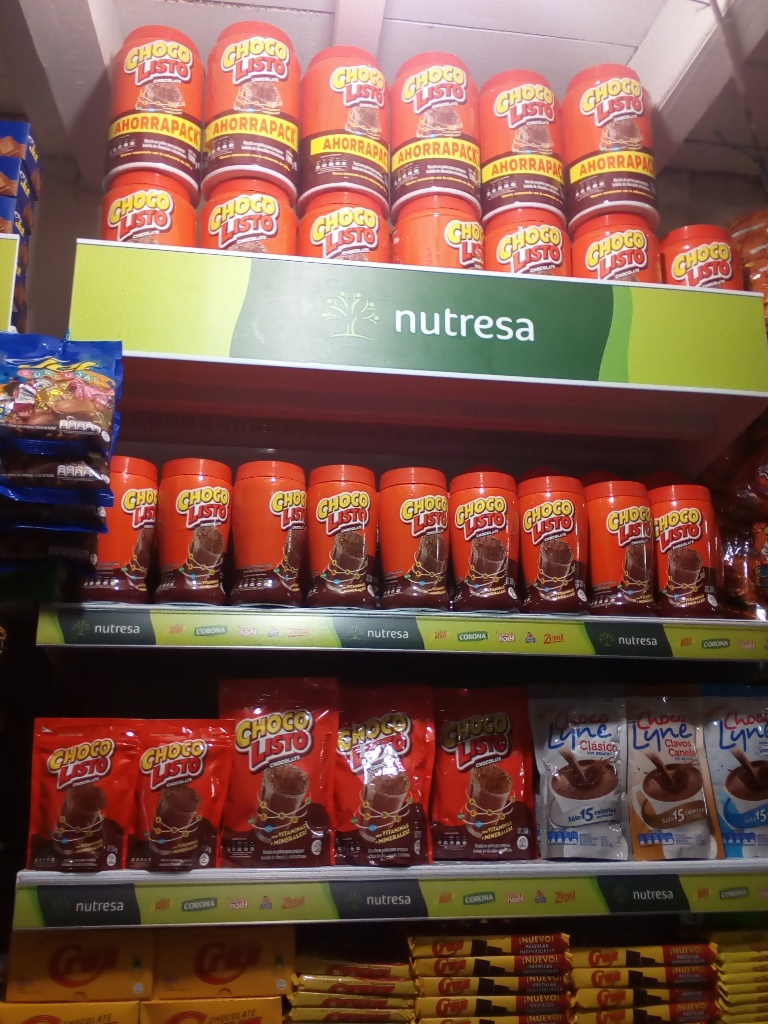COL0170103TRR00100: (103, 19, 212, 180)
